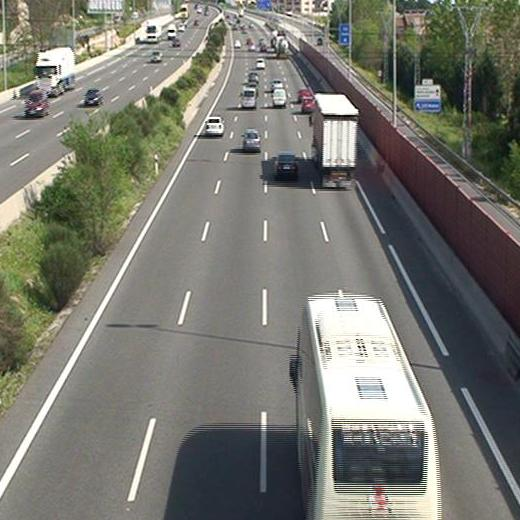bus: (297, 300, 440, 520)
car: (273, 153, 298, 179), (243, 129, 261, 151), (205, 117, 225, 135), (302, 97, 316, 115), (256, 57, 265, 69), (248, 73, 259, 82)
truck: (311, 94, 357, 187)
van: (241, 88, 256, 108), (271, 90, 287, 107)
